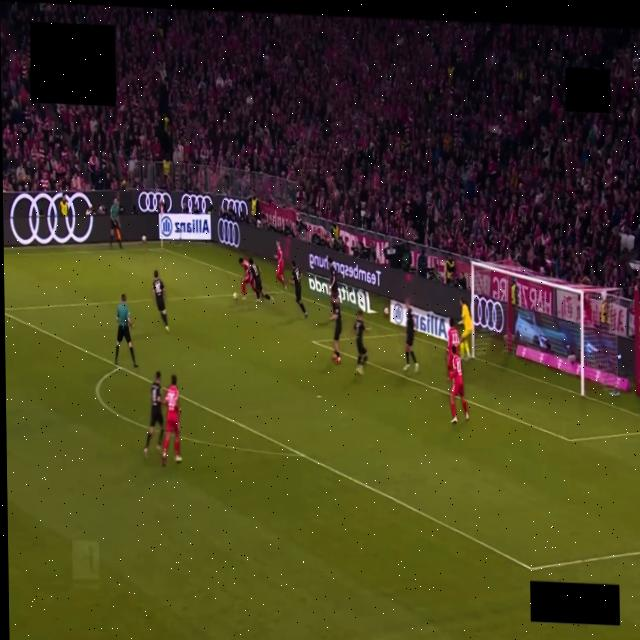ball: (234, 292, 238, 299)
player: (163, 375, 181, 465), (144, 372, 163, 456), (448, 348, 468, 423), (403, 299, 417, 371), (152, 271, 168, 332), (248, 259, 271, 301), (290, 261, 306, 317), (459, 297, 472, 360), (354, 311, 366, 375), (447, 317, 459, 369), (239, 258, 253, 298), (329, 259, 338, 319), (274, 241, 285, 289), (332, 305, 341, 363)
referee: (114, 293, 136, 367)
